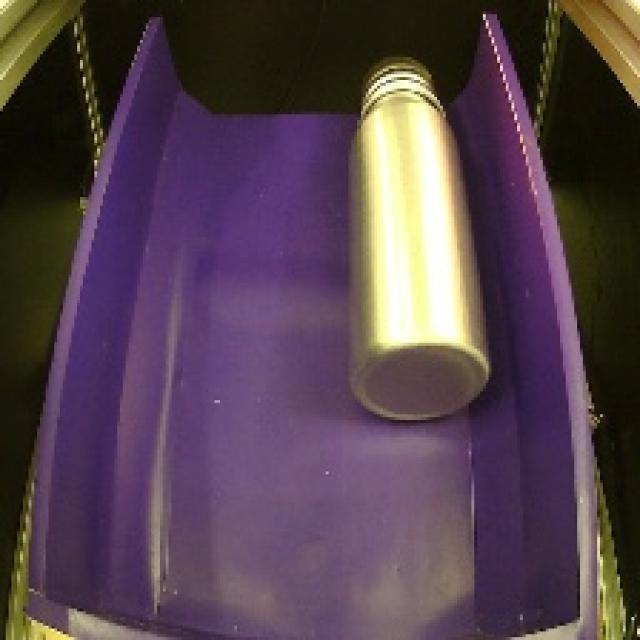metal: (334, 43, 498, 431)
